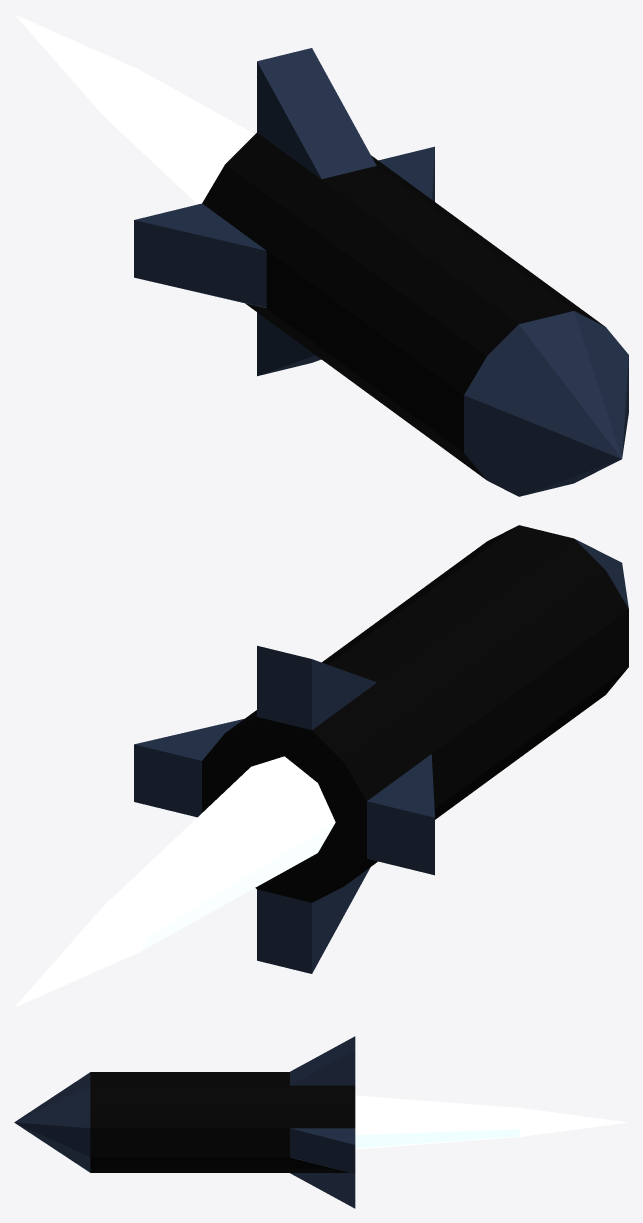
The model's file is Rocket.fbx.
3 views of the same model, one above another, from view 1: azimuth 30°, elevation 25°; view 2: azimuth 150°, elevation 25°; view 3: azimuth 270°, elevation 25° (orthographic). The views are drawn at different scales.
Parts seen in each view (by area): view 1: Cube.001; view 2: Cube.001; view 3: Cube.001.
Part boxes in pixels (bbox=[...]): Cube.001: bbox=[14, 14, 628, 496]; Cube.001: bbox=[14, 525, 628, 1007]; Cube.001: bbox=[14, 1036, 628, 1208].
Bounding box in the file's own units: 268 × 268 × 936.
1 material, 1 textured.
